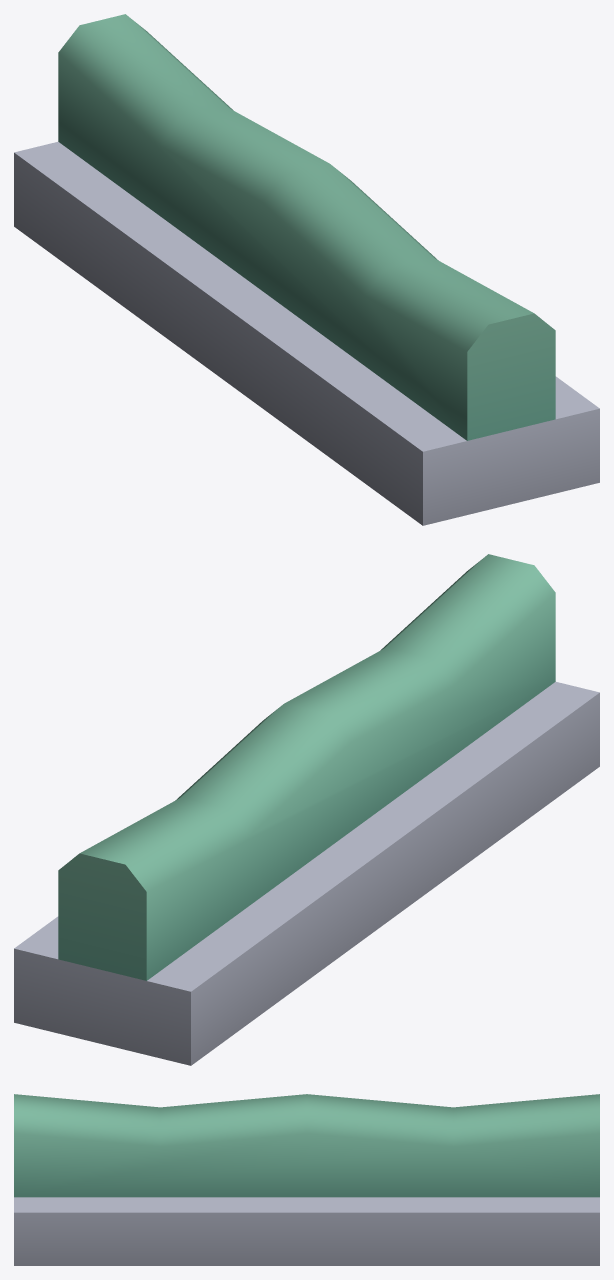
The model's file is hedge.glb.
The picture shows the model from 3 angles, top to bottom: view 1: azimuth 30°, elevation 25°; view 2: azimuth 150°, elevation 25°; view 3: azimuth 270°, elevation 25°; orthographic projection. The views are drawn at different scales.
Visible parts, largest first — view 1: hedge; view 2: hedge; view 3: hedge.
Boxes of the visible parts, left/top/right/bottom form: hedge: left=14, top=14, right=599, bottom=525; hedge: left=14, top=554, right=599, bottom=1065; hedge: left=14, top=1094, right=599, bottom=1265.
Bounding box in the file's own units: 0.25 × 0.25 × 1.
